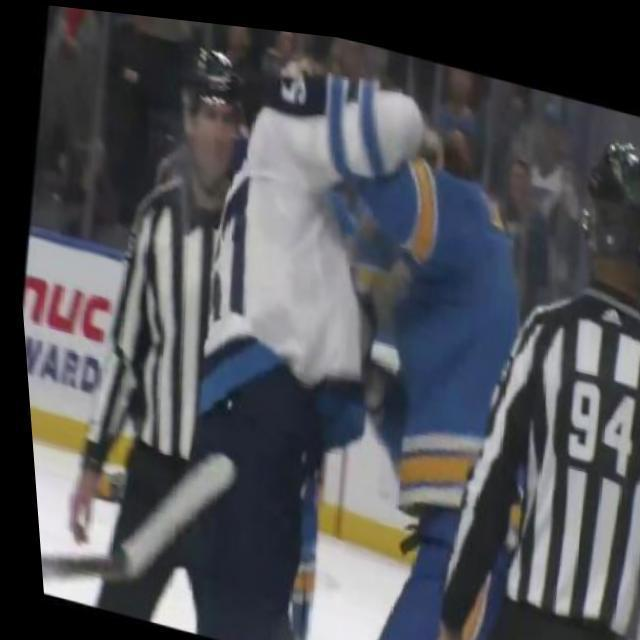fight: (138, 35, 570, 640)
